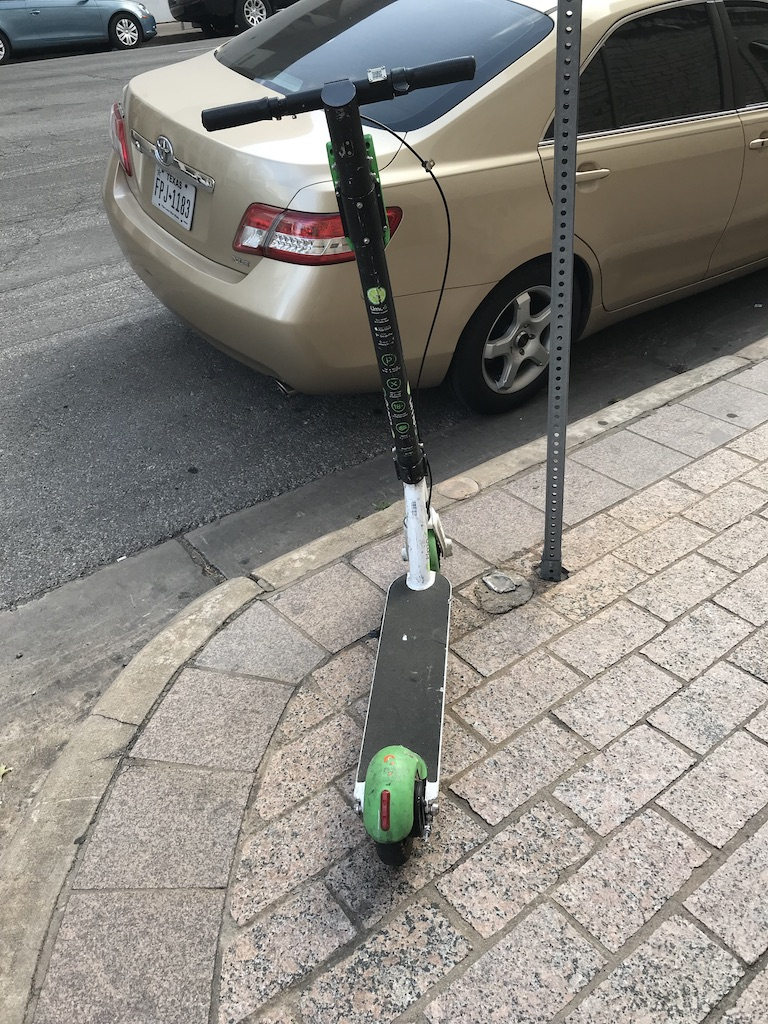scooter: (202, 48, 480, 870)
